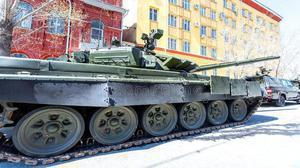t72: (5, 35, 273, 150)
